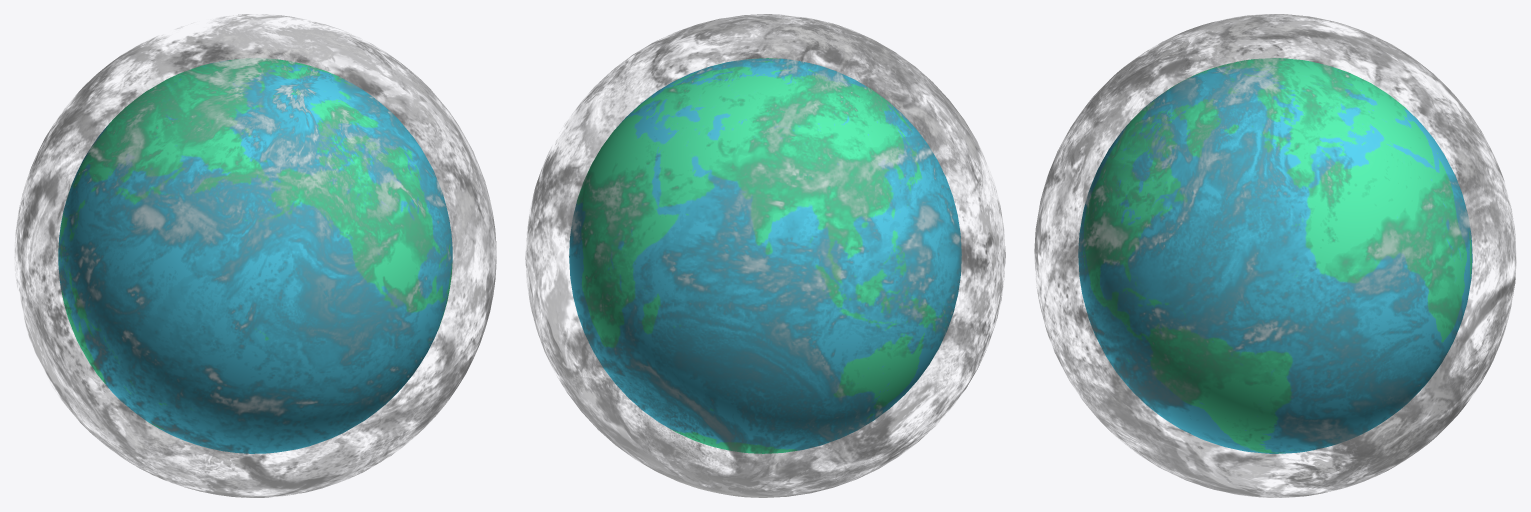
File: EarthVector.glb
3 views of the same model, side by side, from view 1: azimuth 30°, elevation 25°; view 2: azimuth 150°, elevation 25°; view 3: azimuth 270°, elevation 25° (orthographic).
Visible parts, largest first — view 1: Earth, Clouds; view 2: Earth, Clouds; view 3: Earth, Clouds.
Boxes of the visible parts, <box> form: Earth: <box>58,58,452,453</box>; Clouds: <box>15,14,496,497</box>; Earth: <box>569,58,961,453</box>; Clouds: <box>525,14,1005,497</box>; Earth: <box>1078,58,1472,453</box>; Clouds: <box>1034,14,1516,497</box>.
Size of the model in its own units: 3.25 by 3.27 by 3.25.
2 materials, 2 textured.
